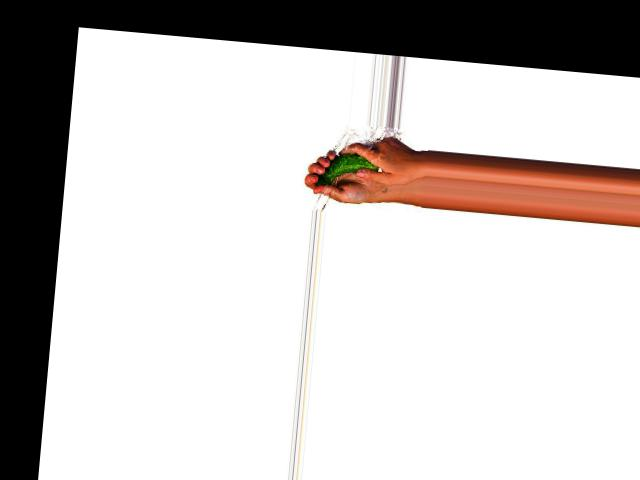cucumber: (315, 149, 380, 190)
